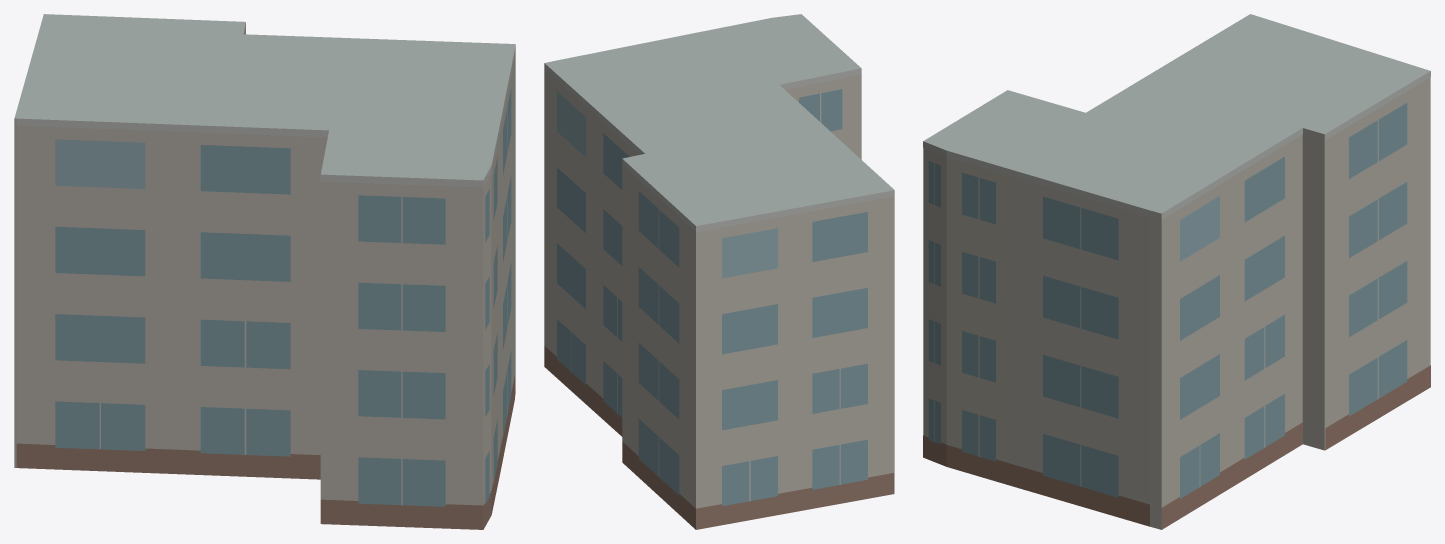
File: survey-upis-32744687.glb
3 renders of one model, left to right at view 1: azimuth 30°, elevation 25°; view 2: azimuth 150°, elevation 25°; view 3: azimuth 270°, elevation 25°, orthographic. The views are drawn at different scales.
Visible parts, largest first — view 1: survey-upis-32744687.tmp; view 2: survey-upis-32744687.tmp; view 3: survey-upis-32744687.tmp.
Boxes of the visible parts, <box> form: survey-upis-32744687.tmp: <box>14,14,515,529</box>; survey-upis-32744687.tmp: <box>544,14,894,529</box>; survey-upis-32744687.tmp: <box>923,14,1430,529</box>.
Bounding box in the file's own units: 16.52 × 12.2 × 17.75.
